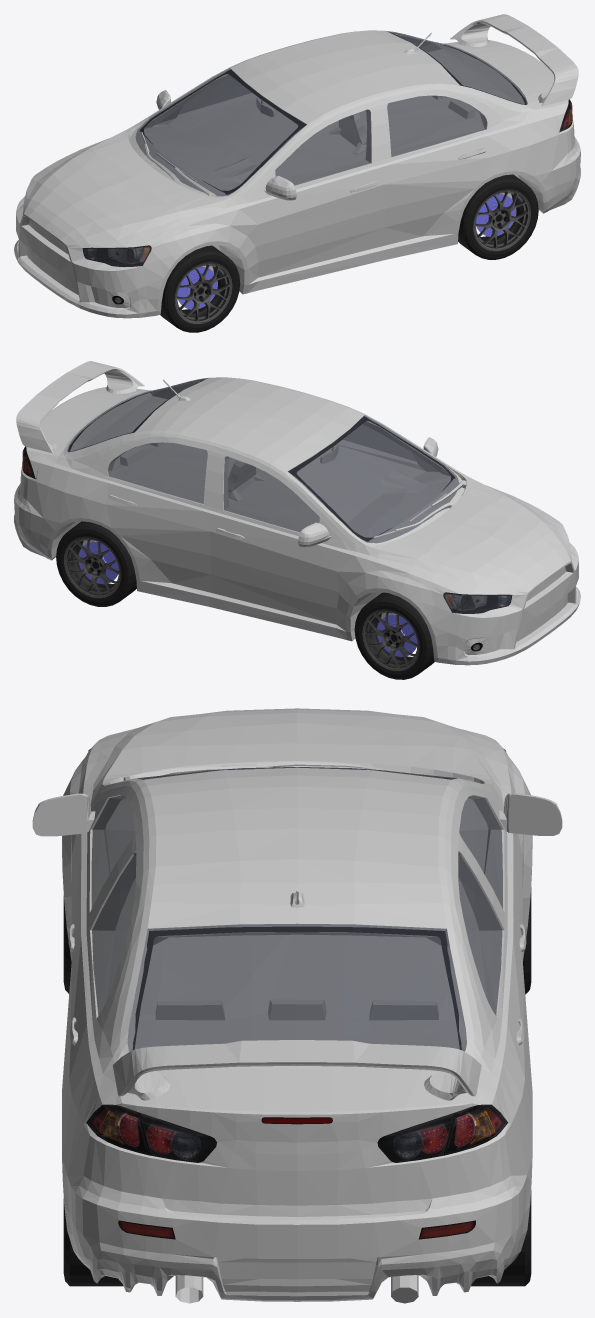
The model's file is 7LGJ3BYGGGCNZG8ESB4RJZJS0.obj.
The picture shows the model from 3 angles, top to bottom: view 1: azimuth 30°, elevation 25°; view 2: azimuth 150°, elevation 25°; view 3: azimuth 270°, elevation 25°; orthographic projection. The views are drawn at different scales.
Parts seen in each view (by area): view 1: the_car; view 2: the_car; view 3: the_car.
Part boxes in pixels (x1,y1,x2,y2): the_car: [14, 14, 580, 332]; the_car: [14, 361, 580, 679]; the_car: [32, 708, 562, 1303].
Size of the model in its own units: 2.5 by 0.8868 by 1.13.
